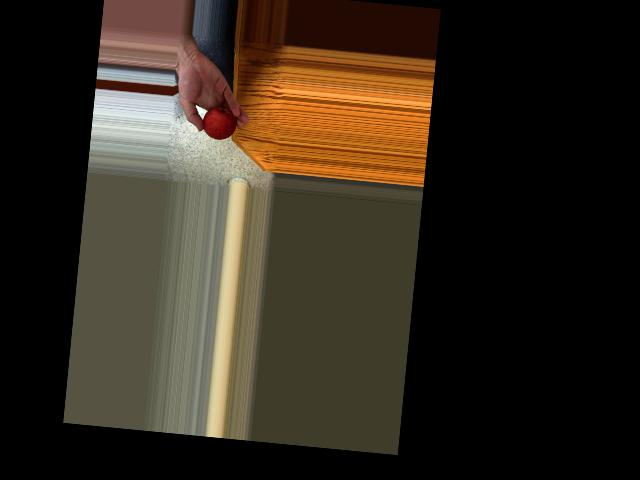apple: (195, 102, 238, 141)
